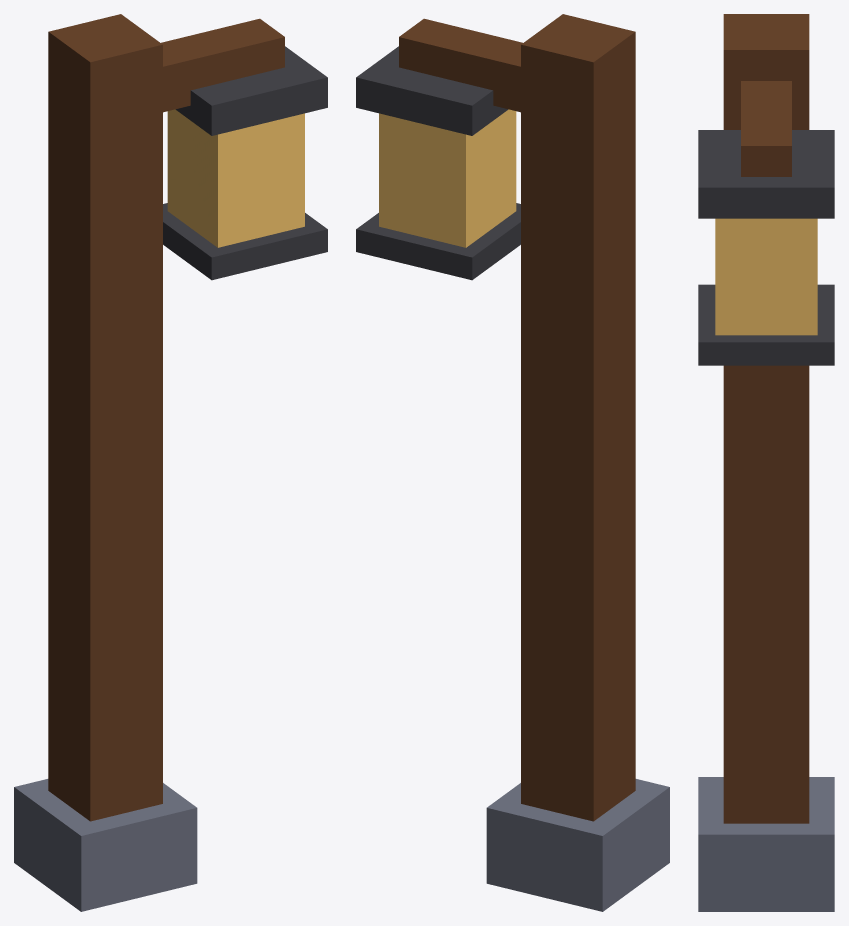
File: LampPost.obj
The picture shows the model from 3 angles, left to right: view 1: azimuth 30°, elevation 25°; view 2: azimuth 150°, elevation 25°; view 3: azimuth 270°, elevation 25°; orthographic projection.
Visible parts, largest first — view 1: LampPost; view 2: LampPost; view 3: LampPost.
Part boxes in pixels (<box>): LampPost: <box>14,14,327,911</box>; LampPost: <box>356,14,669,911</box>; LampPost: <box>698,14,834,911</box>.
Bounding box in the file's own units: 3.4 × 11 × 1.6.
